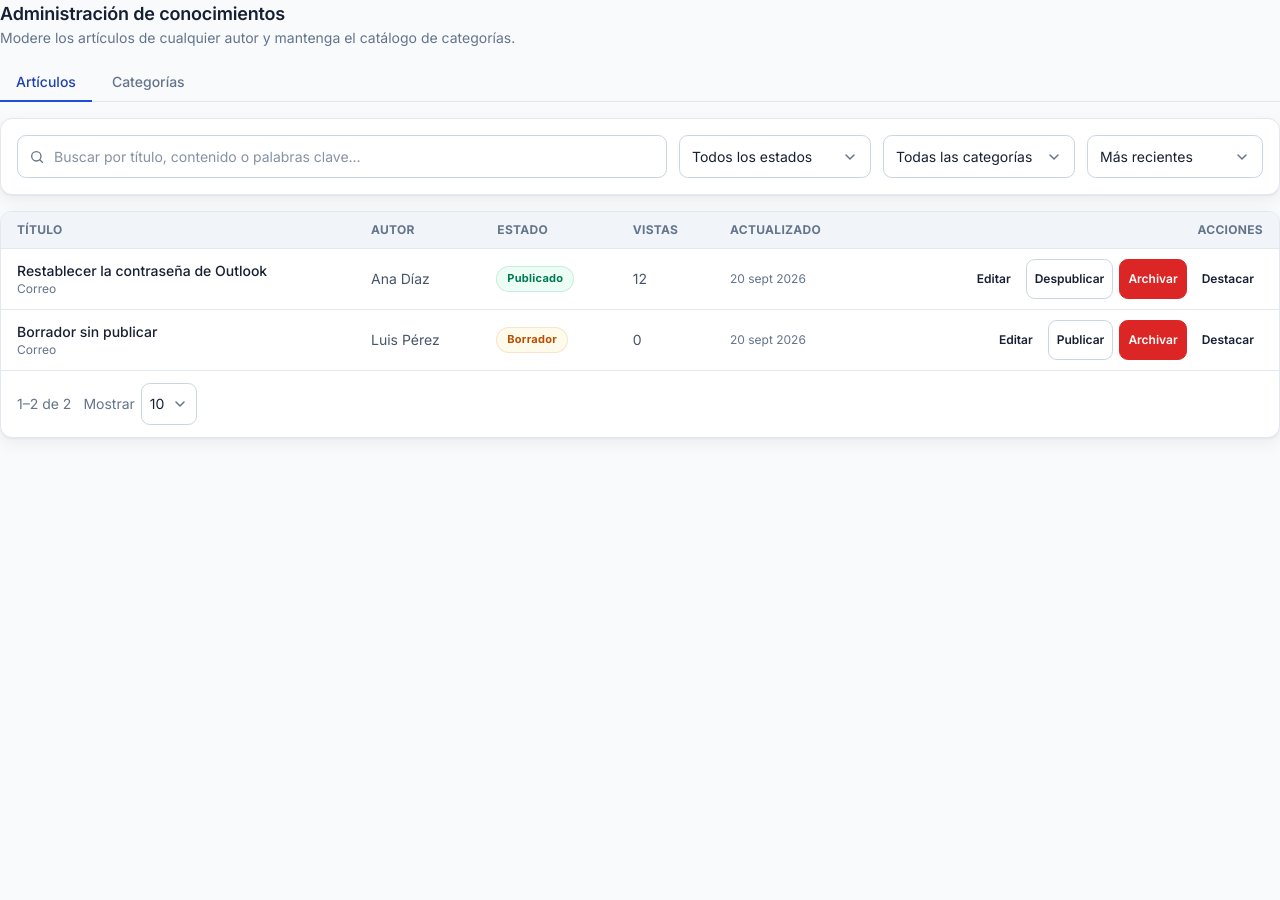
Test: KnowledgeAdmin · moderación de artículos › muestra el error si el servidor rechaza la transición
Step 1. Click the button "Publicar" → (1081, 340), box [1048, 320, 1113, 360]
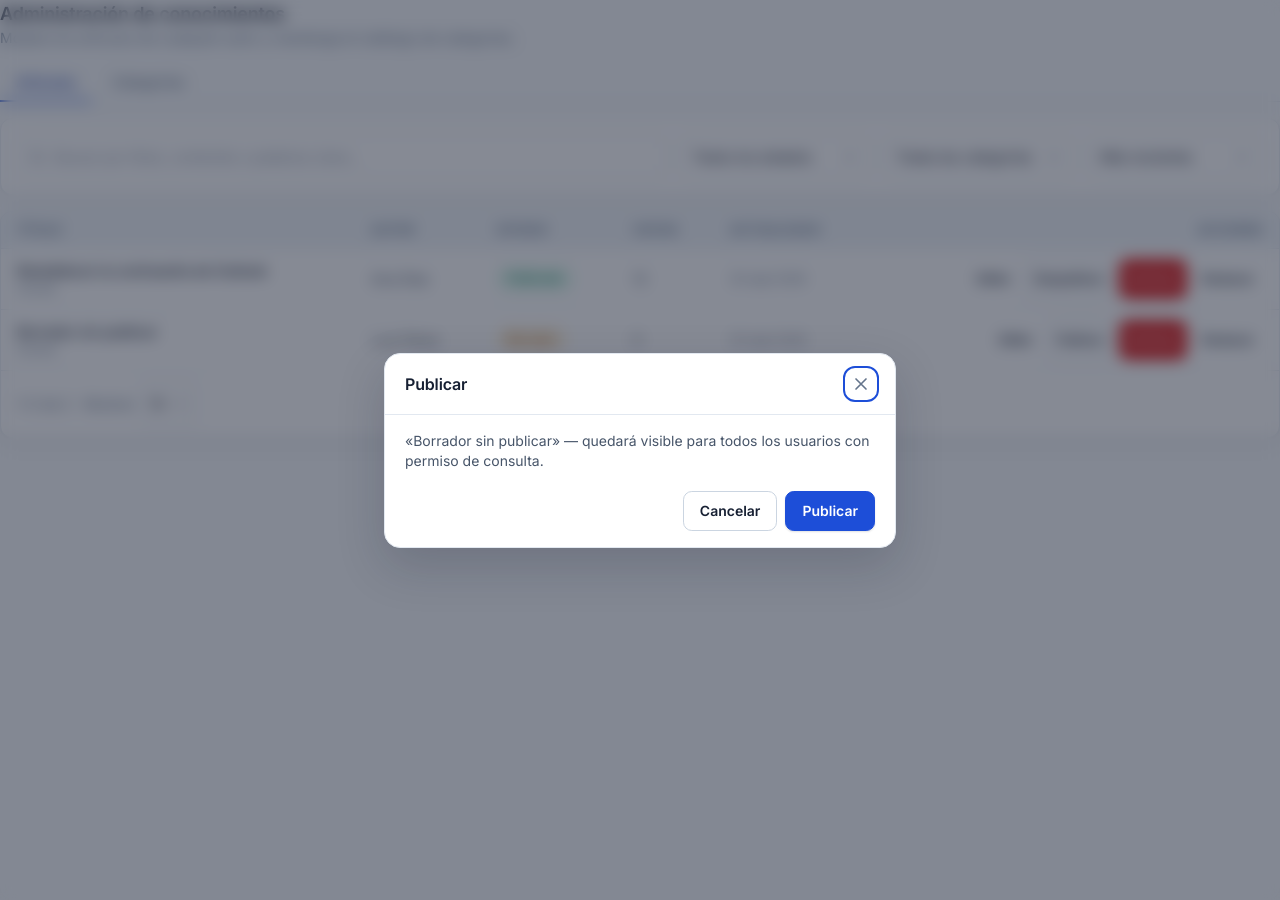
Step 2. Click the button "Publicar" → (830, 510), box [785, 490, 875, 530]
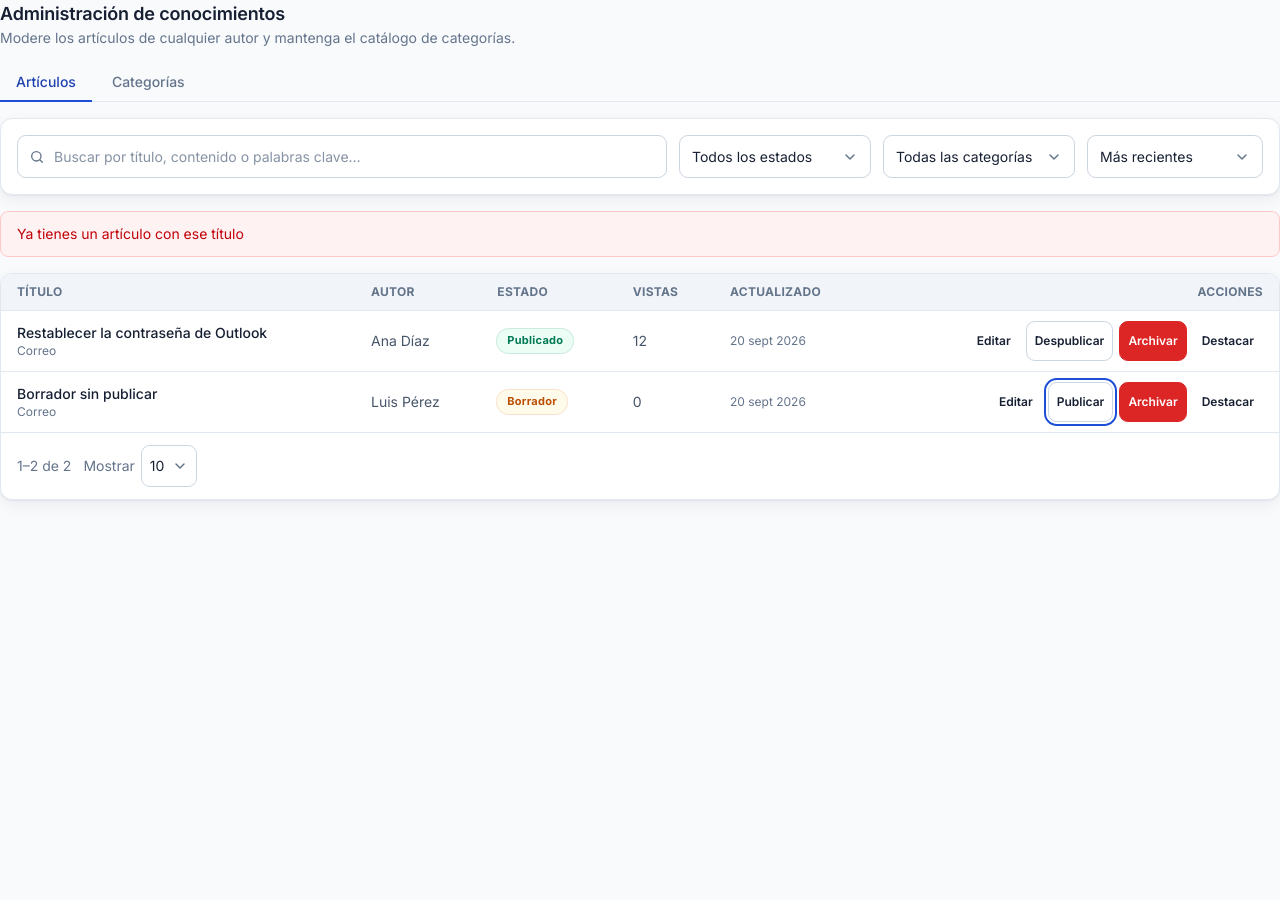
Check: the message "Ya tienes un artículo con ese título" is shown, box [0, 211, 1279, 257]
